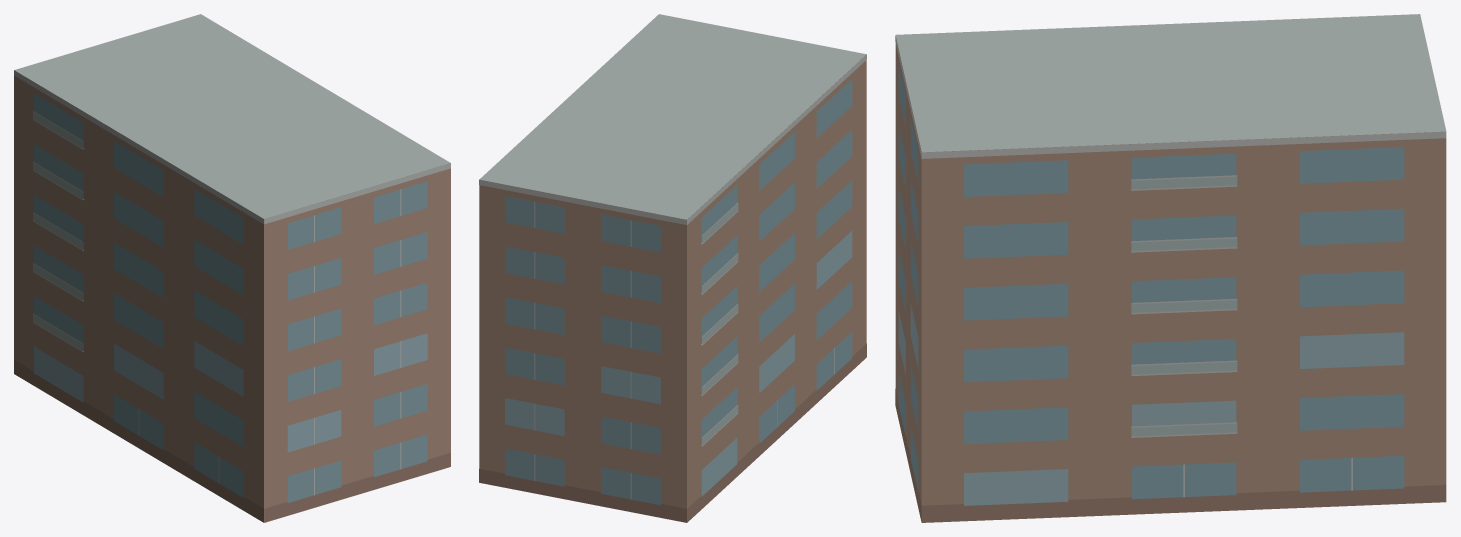
The model's file is survey-upis-32653084.glb.
The picture shows the model from 3 angles, left to right: view 1: azimuth 30°, elevation 25°; view 2: azimuth 150°, elevation 25°; view 3: azimuth 270°, elevation 25°; orthographic projection. The views are drawn at different scales.
Parts seen in each view (by area): view 1: survey-upis-32653084.tmp; view 2: survey-upis-32653084.tmp; view 3: survey-upis-32653084.tmp.
Part boxes in pixels (x1,y1,x2,y2): survey-upis-32653084.tmp: (14, 14, 450, 522); survey-upis-32653084.tmp: (479, 14, 866, 522); survey-upis-32653084.tmp: (895, 14, 1446, 522).
Size of the model in its own units: 10.98 by 13.7 by 18.47.
